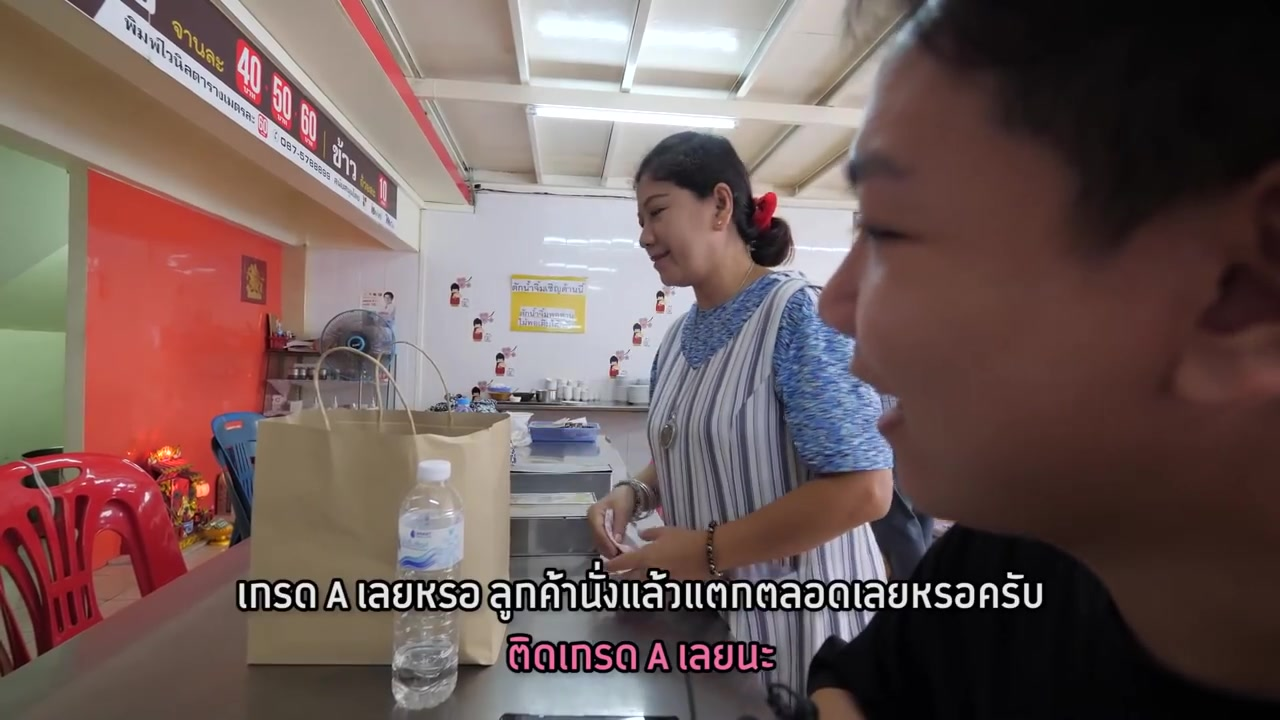text-label: (234, 557, 1048, 626), (501, 629, 778, 676)
